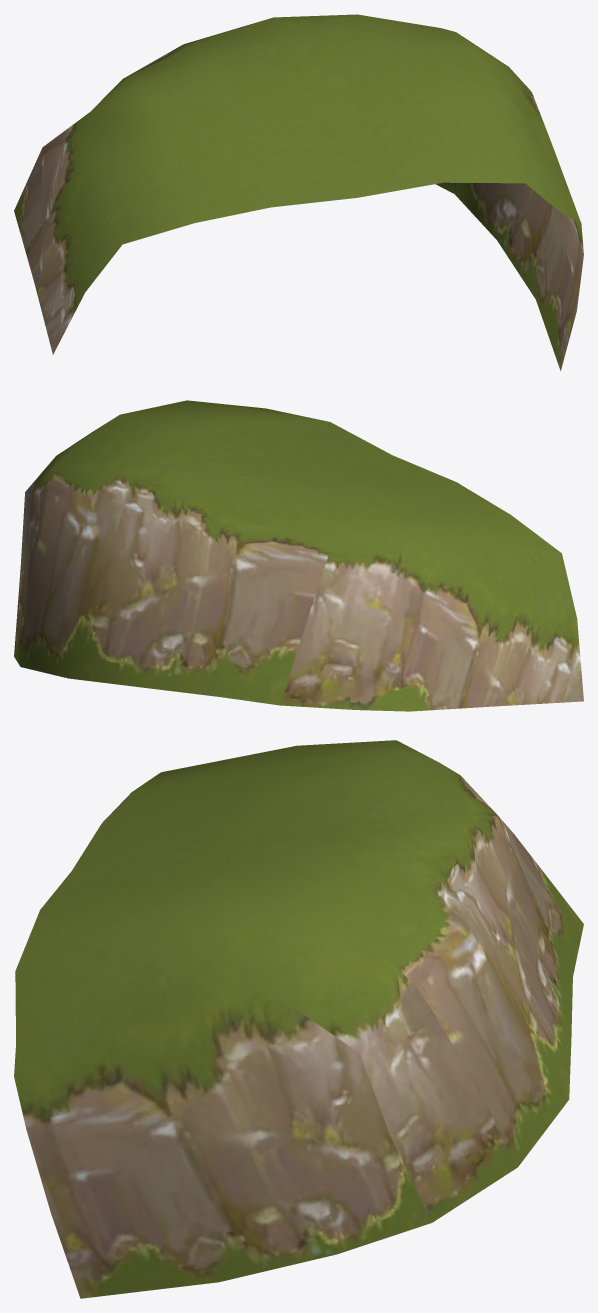
File: gaoyuan_bianyuan_03 (4).fbx
3 views of the same model, one above another, from view 1: azimuth 30°, elevation 25°; view 2: azimuth 150°, elevation 25°; view 3: azimuth 270°, elevation 25° (orthographic). The views are drawn at different scales.
Parts seen in each view (by area): view 1: gaoyuan_bianyuan_03 (4); view 2: gaoyuan_bianyuan_03 (4); view 3: gaoyuan_bianyuan_03 (4).
Part boxes in pixels (left/top/right/bottom): gaoyuan_bianyuan_03 (4): left=14, top=14, right=583, bottom=370; gaoyuan_bianyuan_03 (4): left=14, top=400, right=583, bottom=711; gaoyuan_bianyuan_03 (4): left=14, top=740, right=583, bottom=1298.
Bounding box in the file's own units: 14.09 × 7.69 × 10.68.
